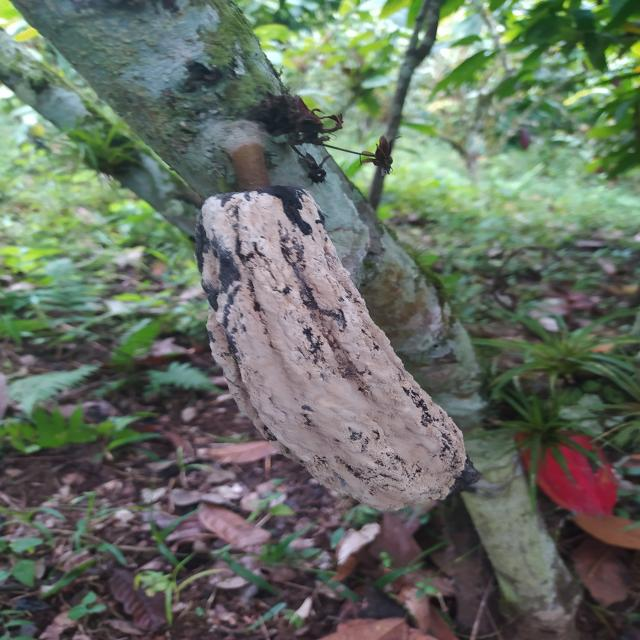Monilia: (192, 186, 484, 507)
Sana: (515, 418, 623, 522)
